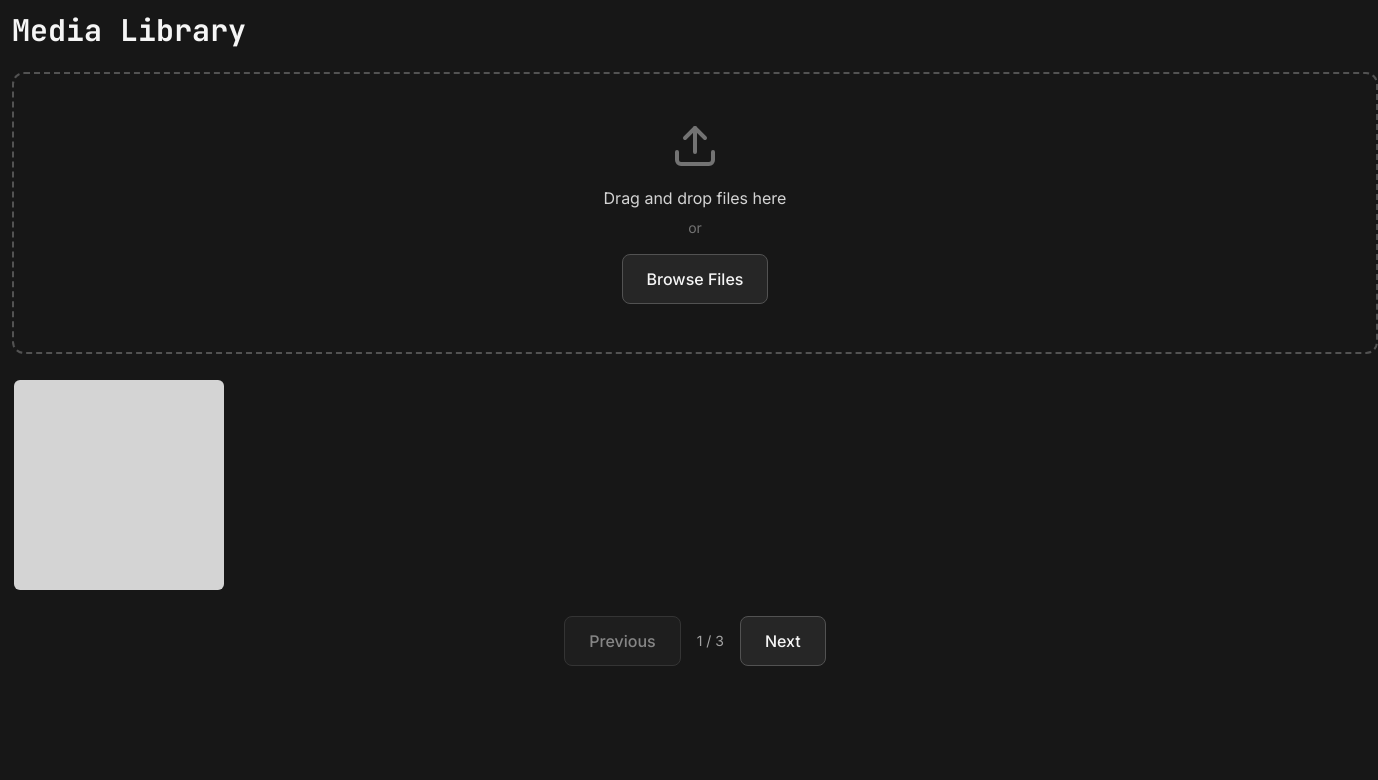
AdminMedia › loads further pages of 100 through the page buttons
Check: the text "1 / 3" is shown, box 697,631 -> 724,651
Click the button "Next" at [783, 641], box 740,616 -> 826,666
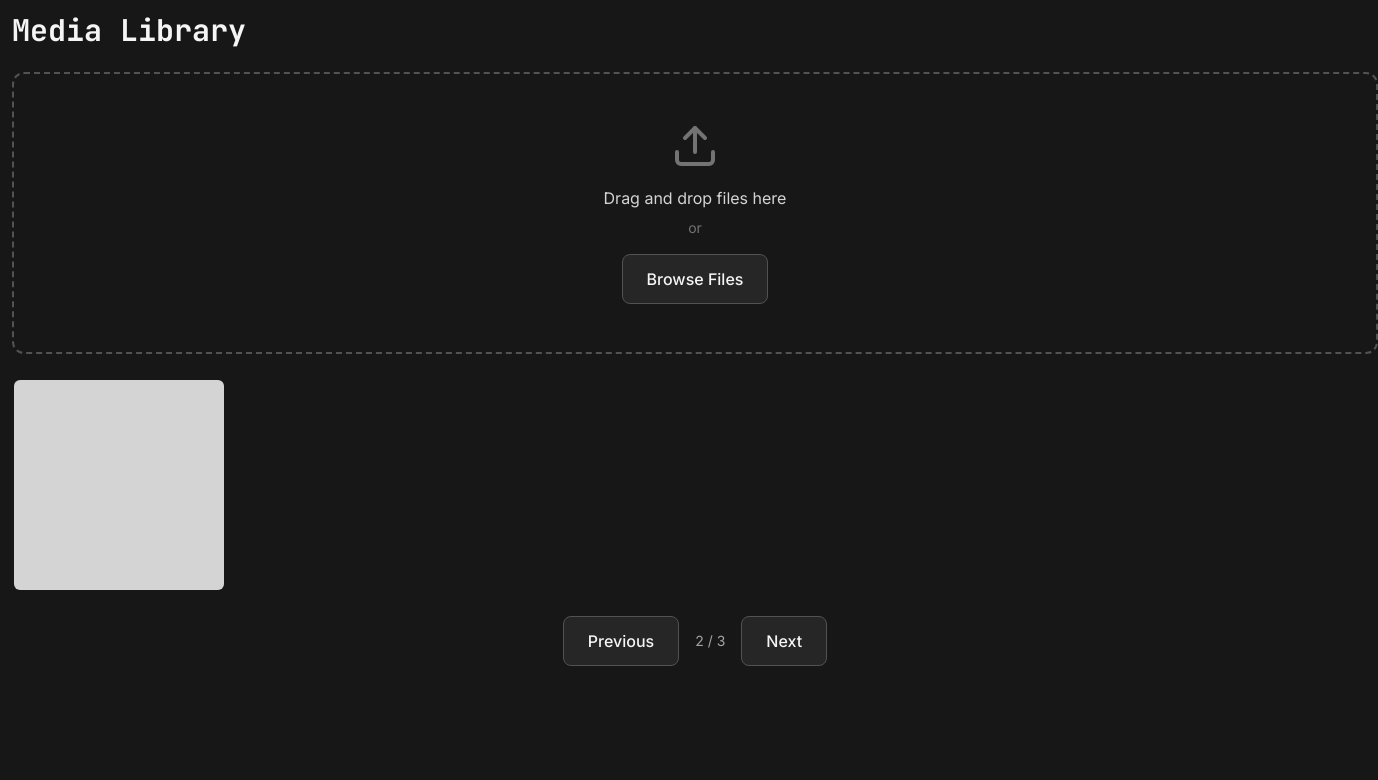
Check: the text "2 / 3" is shown, box 695,631 -> 725,651
